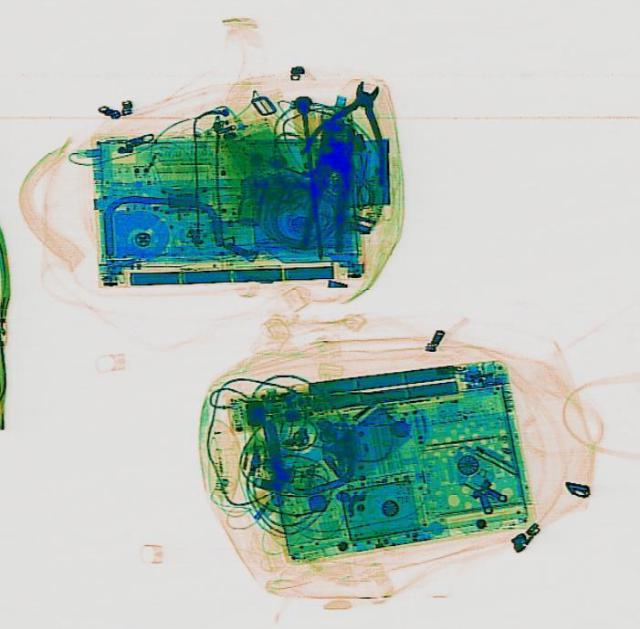Pliers: (294, 69, 414, 187)
